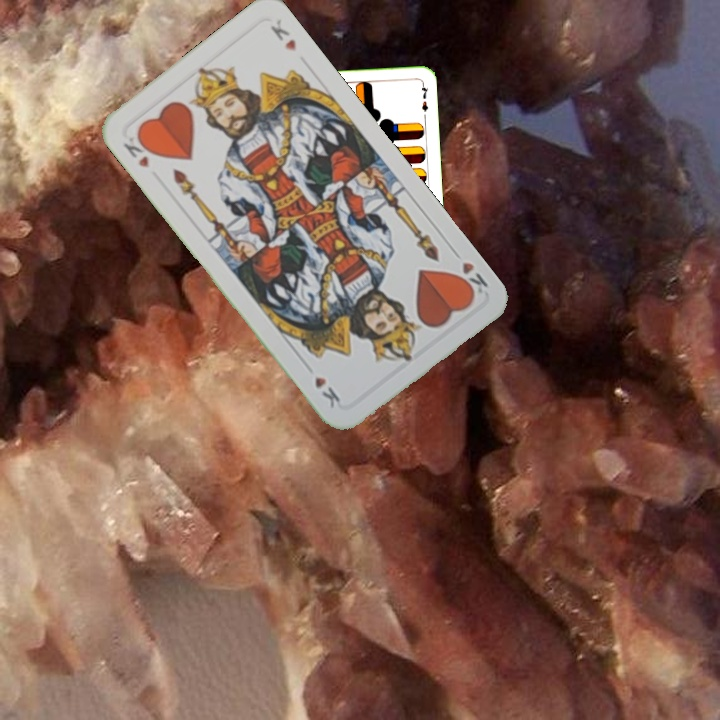HK: (448, 245, 491, 302), (119, 130, 157, 171)
